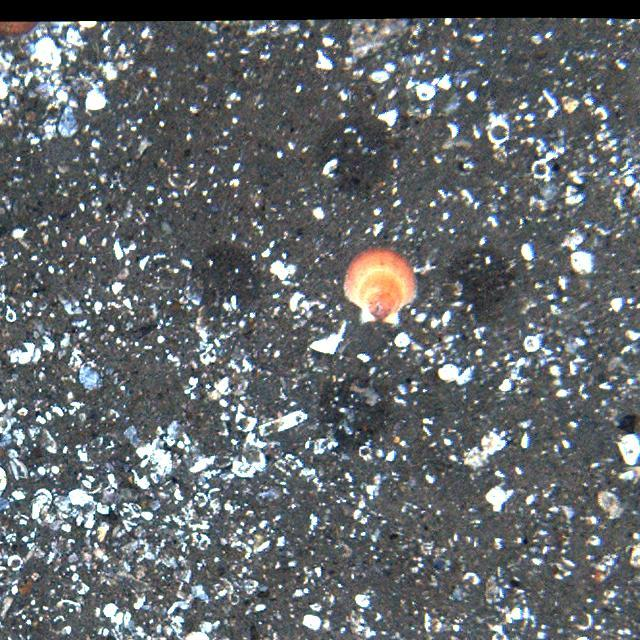scallop: (340, 248, 422, 328)
